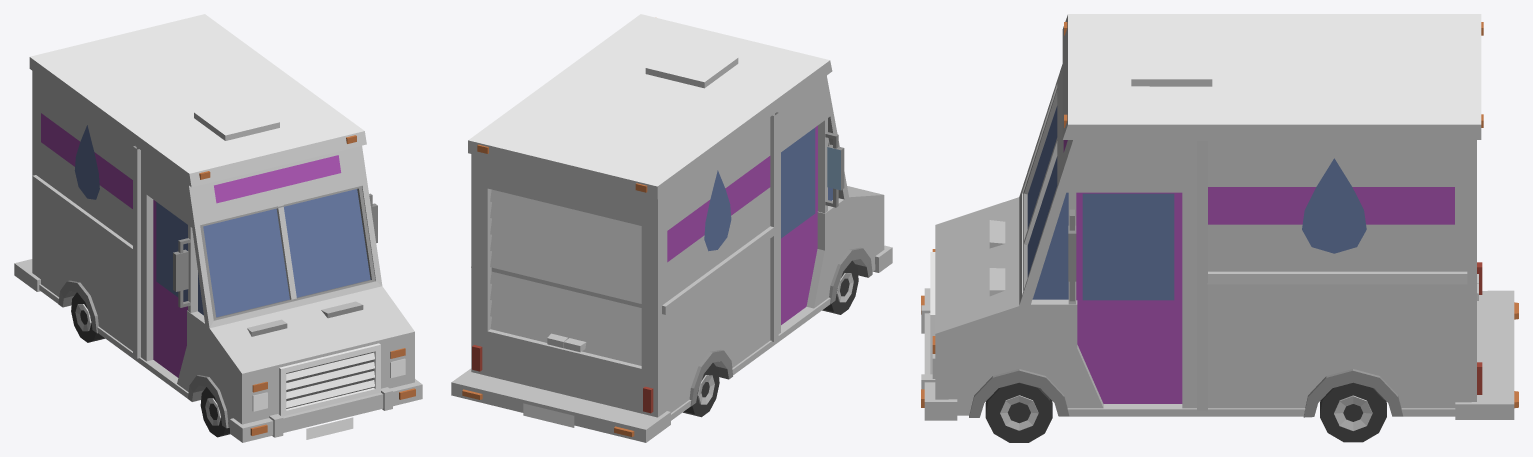
File: transport_bus_003.fbx
The picture shows the model from 3 angles, left to right: view 1: azimuth 30°, elevation 25°; view 2: azimuth 150°, elevation 25°; view 3: azimuth 270°, elevation 25°; orthographic projection. The views are drawn at different scales.
Parts seen in each view (by area): view 1: transport_bus_003; view 2: transport_bus_003; view 3: transport_bus_003.
Part boxes in pixels (<box>): transport_bus_003: <box>14,14,422,442</box>; transport_bus_003: <box>451,14,892,442</box>; transport_bus_003: <box>921,14,1518,442</box>.
Size of the model in its own units: 202 by 243 by 401.
